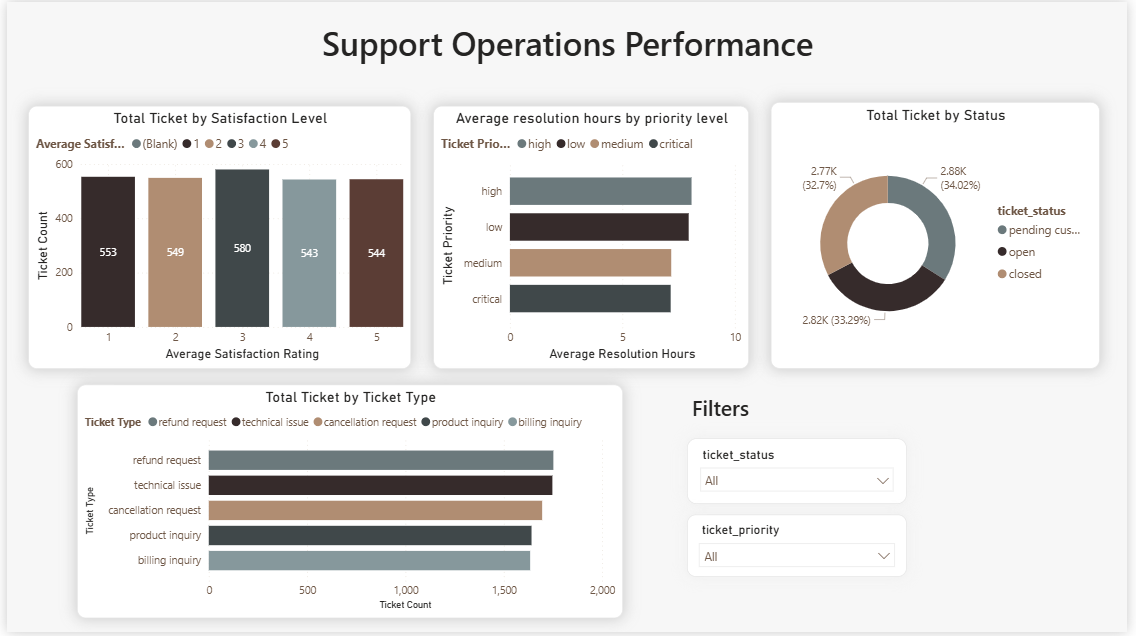

What the dashboard file says about the page in this screenshot:
{"tool":"powerbi","page":{"name":"Operational Analytics","canvas":[1280,720],"ordinal":1},"visuals":[{"type":"textbox","box":[322.5,17.8,635.3,75.5],"z":0},{"type":"columnChart","title":"Total Ticket by Satisfaction Level","fields":{"Category":["warehouse fact_support_tickets.customer_satisfaction_rating"],"Y":["CountNonNull(warehouse fact_support_tickets.ticket_id)"],"Series":["warehouse fact_support_tickets.customer_satisfaction_rating"]},"box":[24.7,118,437.7,300.5],"z":1000},{"type":"barChart","title":"Average resolution hours by priority level","fields":{"Category":["warehouse fact_support_tickets.ticket_priority"],"Y":["Avg(warehouse fact_support_tickets.resolution_hours)"],"Series":["warehouse fact_support_tickets.ticket_priority"]},"box":[487.1,118,360.9,300.5],"z":2000},{"type":"donutChart","title":"Total Ticket by Status","fields":{"Category":["warehouse fact_support_tickets.ticket_status"],"Y":["CountNonNull(warehouse fact_support_tickets.ticket_id)"]},"box":[872.7,113.9,376,304.6],"z":3000},{"type":"barChart","title":"Total Ticket by Ticket Type","fields":{"Category":["warehouse fact_support_tickets.ticket_type"],"Y":["CountNonNull(warehouse fact_support_tickets.ticket_id)"],"Series":["warehouse fact_support_tickets.ticket_type"]},"box":[79.6,437.7,624.4,267.6],"z":4000},{"type":"textbox","box":[737.7,442.4,156.4,56.3],"z":5000},{"type":"slicer","fields":{"Values":["warehouse fact_support_tickets.ticket_status"]},"box":[777.5,498.7,251.1,75.5],"z":6000},{"type":"slicer","fields":{"Values":["warehouse fact_support_tickets.ticket_priority"]},"box":[777.5,585.1,251.1,71.4],"z":7000}]}

Visuals, with their boxes in screenshot pixels (x1, y1, x2, y2), scaled from the page's 1280x720 canvas onto the 1136x636 screenshot:
textbox: region(286, 16, 850, 82)
"Total Ticket by Satisfaction Level" columnChart: region(22, 104, 410, 370)
"Average resolution hours by priority level" barChart: region(432, 104, 753, 370)
"Total Ticket by Status" donutChart: region(775, 101, 1108, 370)
"Total Ticket by Ticket Type" barChart: region(71, 387, 625, 623)
textbox: region(655, 391, 794, 441)
slicer - warehouse fact_support_tickets.ticket_status: region(690, 441, 913, 507)
slicer - warehouse fact_support_tickets.ticket_priority: region(690, 517, 913, 580)
